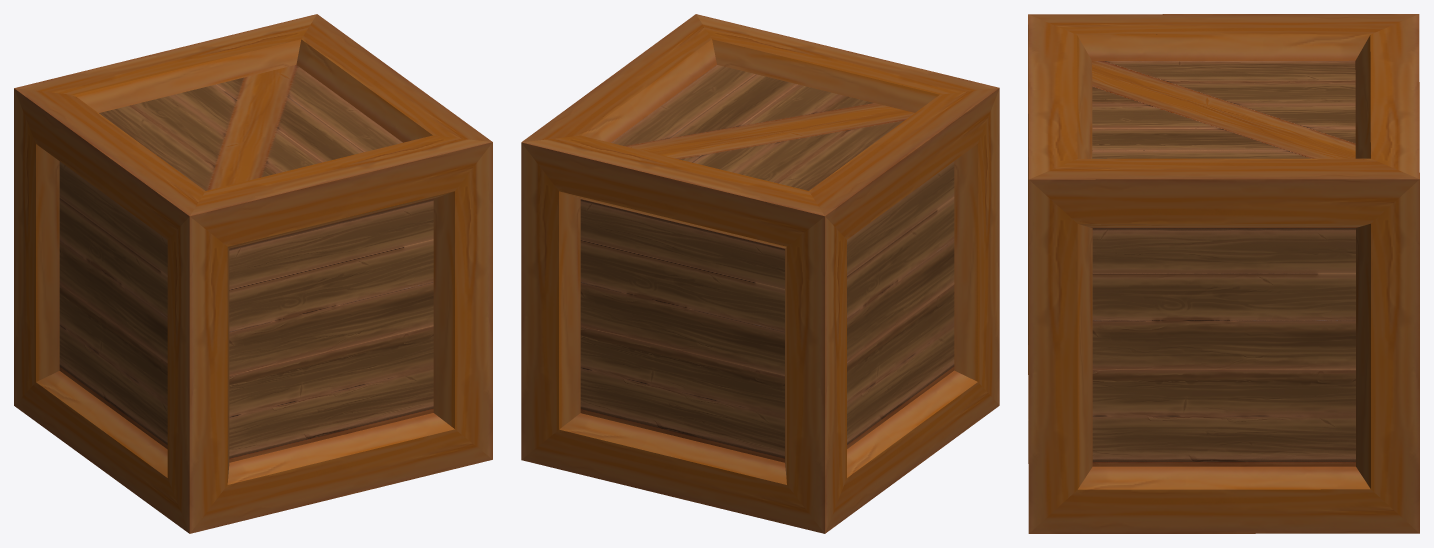
3 renders of one model, left to right at view 1: azimuth 30°, elevation 25°; view 2: azimuth 150°, elevation 25°; view 3: azimuth 270°, elevation 25°, orthographic. The views are drawn at different scales.
Parts seen in each view (by area): view 1: Box_A_01; view 2: Box_A_01; view 3: Box_A_01.
Boxes of the visible parts, x1,y1,x2,y2 form: Box_A_01: (14, 14, 492, 533); Box_A_01: (521, 14, 999, 533); Box_A_01: (1028, 14, 1419, 533).
Bounding box in the file's own units: 80.12 × 80 × 80.13.
1 material, 1 textured.
